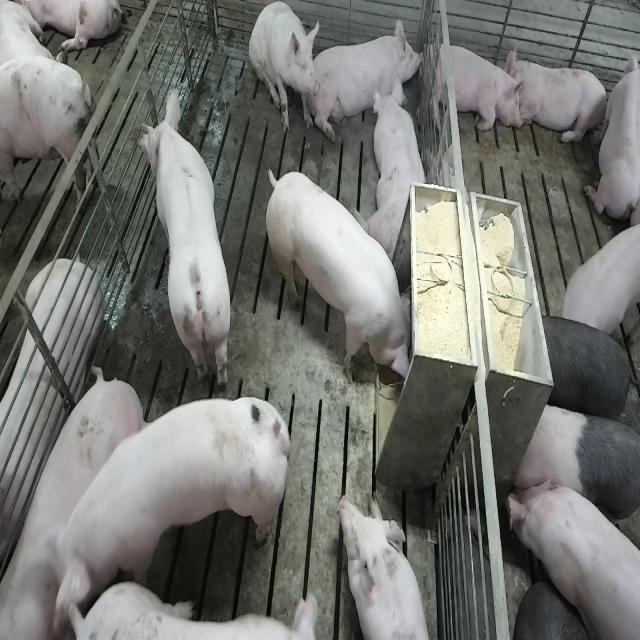Feeding: (270, 168, 421, 392)
Lateral_lying: (0, 370, 152, 640), (0, 256, 102, 607)
Sitting: (249, 2, 320, 137)
Standing: (45, 388, 292, 631), (137, 82, 233, 384), (504, 473, 638, 640), (510, 400, 638, 564), (0, 59, 102, 225), (538, 312, 638, 424), (560, 217, 640, 348)
Sternal_lying: (338, 491, 436, 638), (314, 13, 424, 137), (368, 77, 430, 257), (508, 50, 610, 148), (425, 36, 523, 136), (584, 41, 637, 224)
